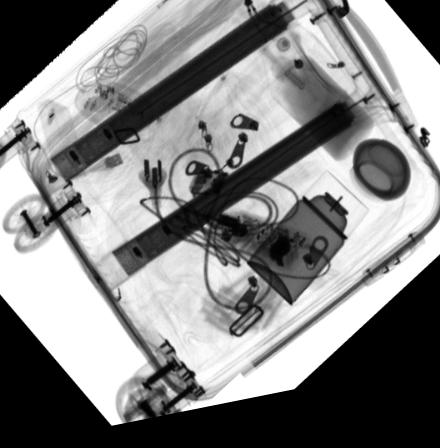Sprayer: (244, 183, 369, 316)
